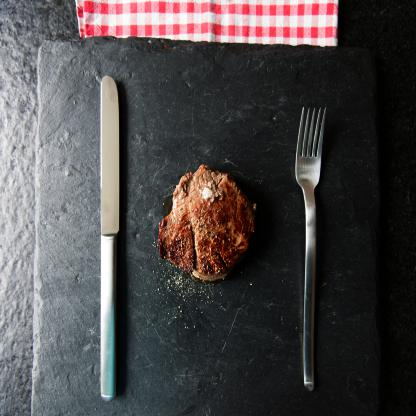Carne: (158, 164, 258, 284)
